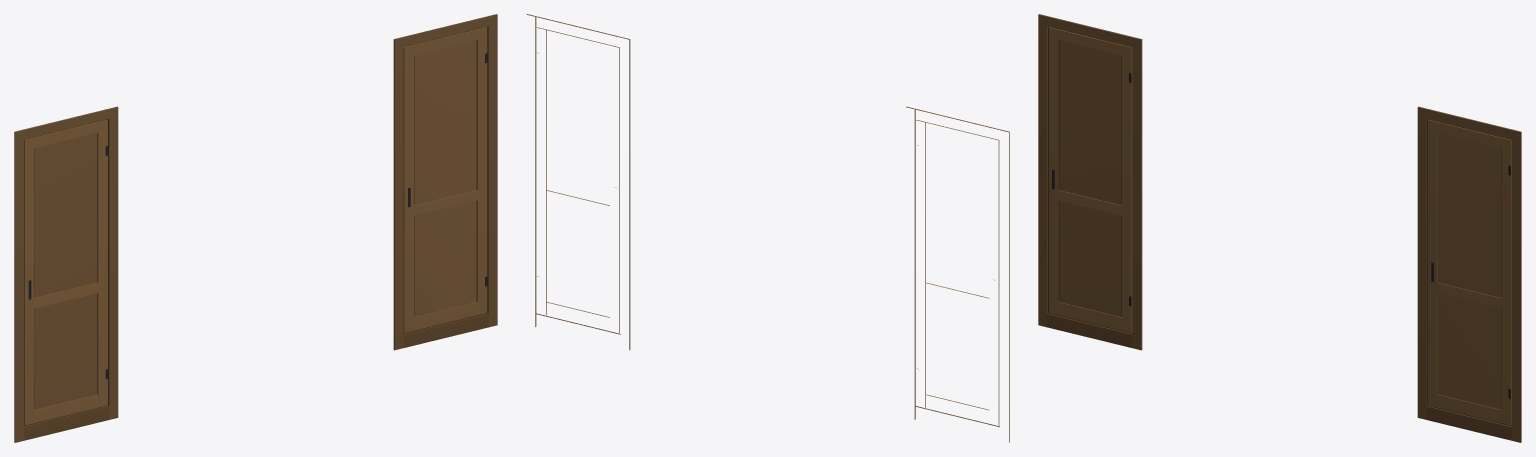
The model's file is cabinet.closet_front_pair.oak.glb.
3 renders of one model, left to right at view 1: azimuth 30°, elevation 25°; view 2: azimuth 150°, elevation 25°; view 3: azimuth 330°, elevation 25°, orthographic.
Parts seen in each view (by area): view 1: cabinet_closet_front_pair_oak; view 2: cabinet_closet_front_pair_oak; view 3: cabinet_closet_front_pair_oak.
Boxes of the visible parts, <box> form: cabinet_closet_front_pair_oak: <box>14,14,497,442</box>; cabinet_closet_front_pair_oak: <box>526,14,1009,442</box>; cabinet_closet_front_pair_oak: <box>1038,14,1521,442</box>.
Size of what is drawn, in the model's own units: 3.74 by 2.3 by 0.012.
